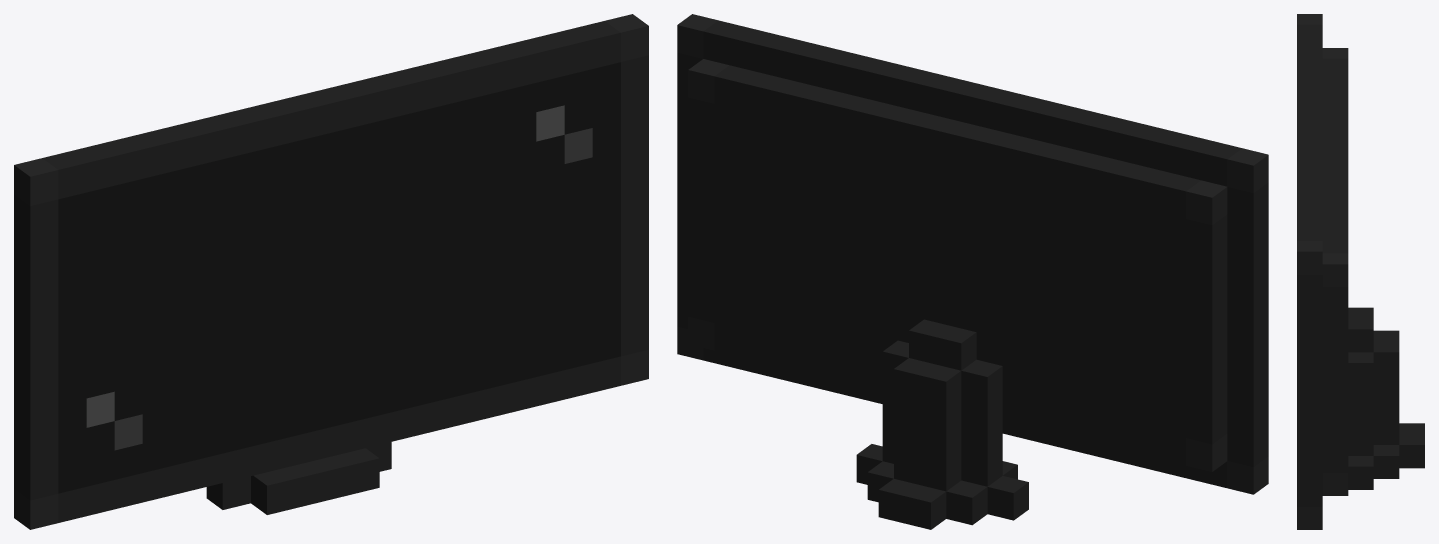
3 renders of one model, left to right at view 1: azimuth 30°, elevation 25°; view 2: azimuth 150°, elevation 25°; view 3: azimuth 270°, elevation 25°, orthographic. The views are drawn at different scales.
Parts seen in each view (by area): view 1: Node; view 2: Node; view 3: Node.
Part boxes in pixels (x1=…): Node: x1=14, y1=14, x2=648, y2=529; Node: x1=677, y1=14, x2=1268, y2=529; Node: x1=1297, y1=14, x2=1424, y2=529.
Bounding box in the file's own units: 2.2 × 1.4 × 0.5.
1 material, 1 textured.
